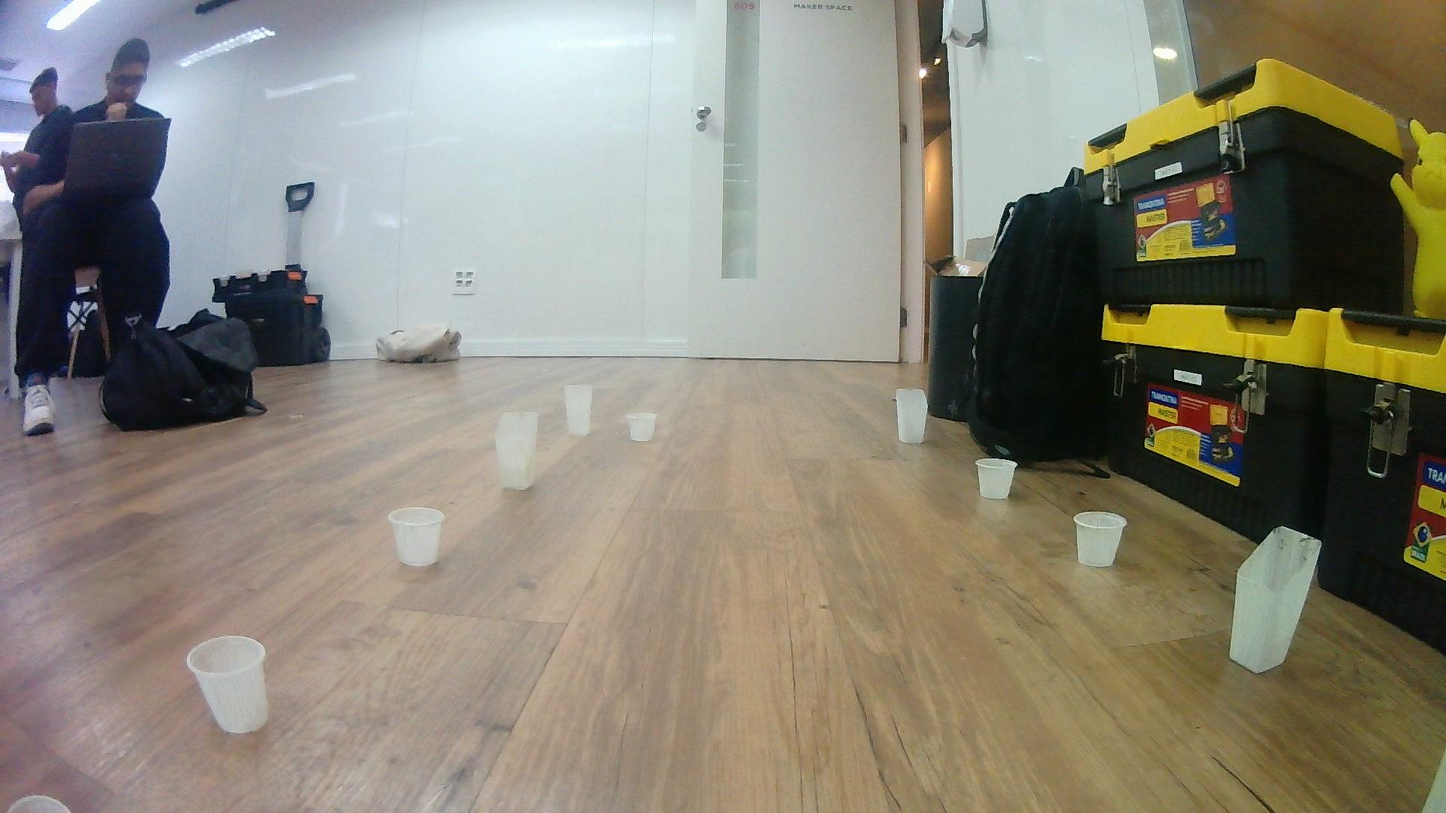erva_daninha: (1228, 524, 1324, 674), (494, 411, 539, 492), (895, 386, 931, 445), (563, 382, 595, 437)
planta: (185, 634, 272, 735), (389, 507, 444, 568), (1072, 510, 1128, 569), (974, 458, 1017, 501), (5, 793, 72, 813), (626, 413, 657, 443)
